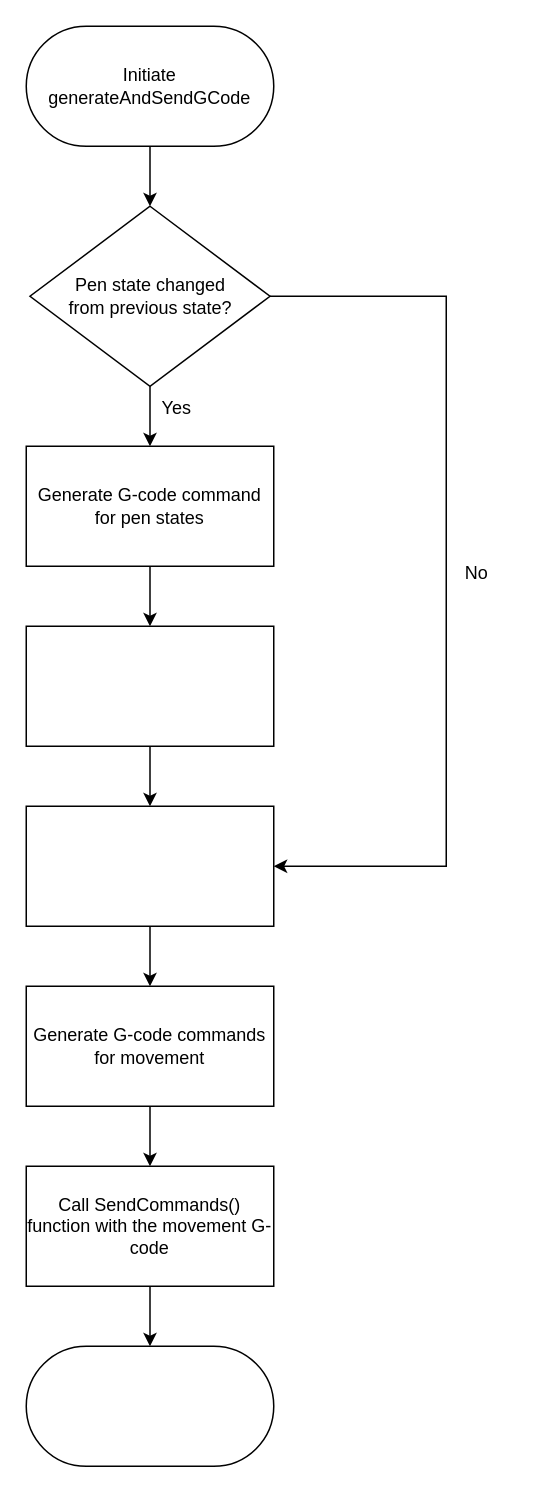
Some shapes in this 533 by 1493 pixel diagram are drawn without their labels. The box of each missing label's shape, as (x1, y1, x2, y2) in pixels:
Call SendCommands() function with G-code for the pen state: (25, 625, 274, 746)
End the function: (25, 1345, 274, 1466)
Update previous pen state to current pen state: (25, 805, 274, 926)
